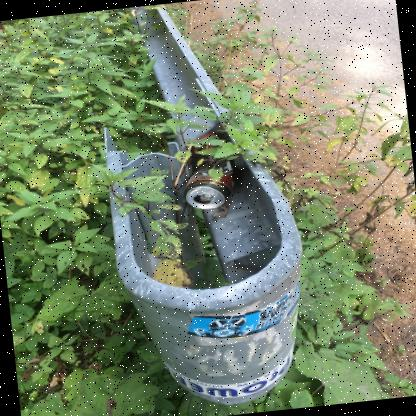Drink can: (183, 132, 235, 209)
Pop tab: (200, 193, 213, 200)
